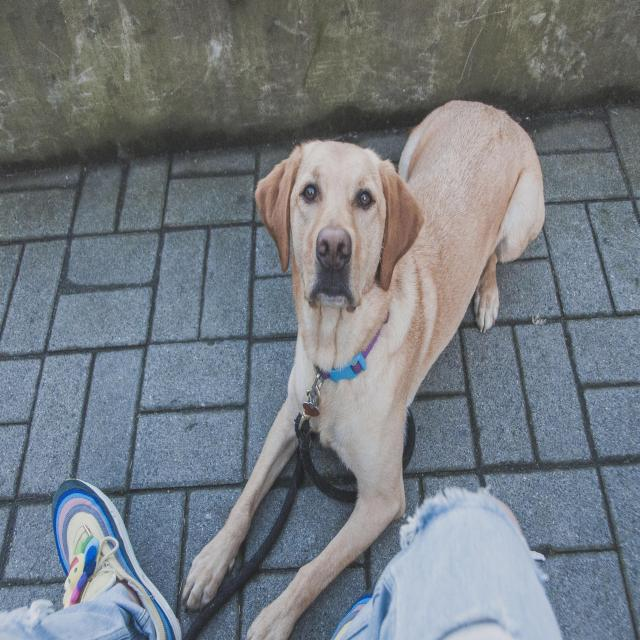shoe: (51, 476, 186, 640)
